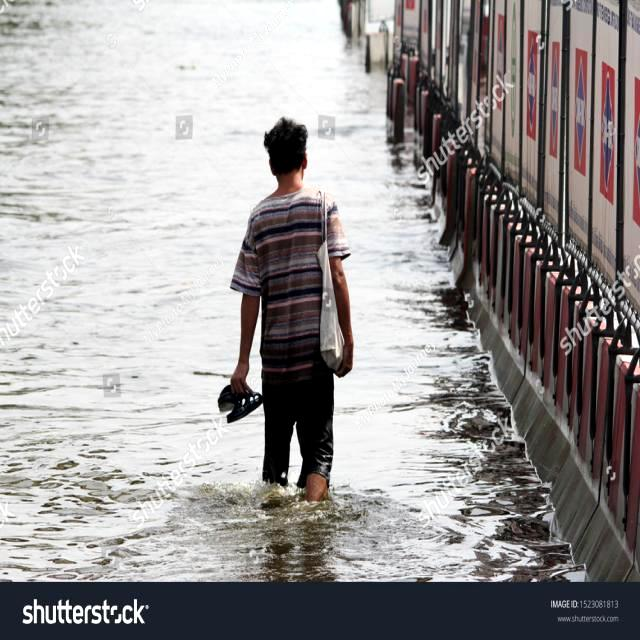civilian: (208, 114, 363, 512)
